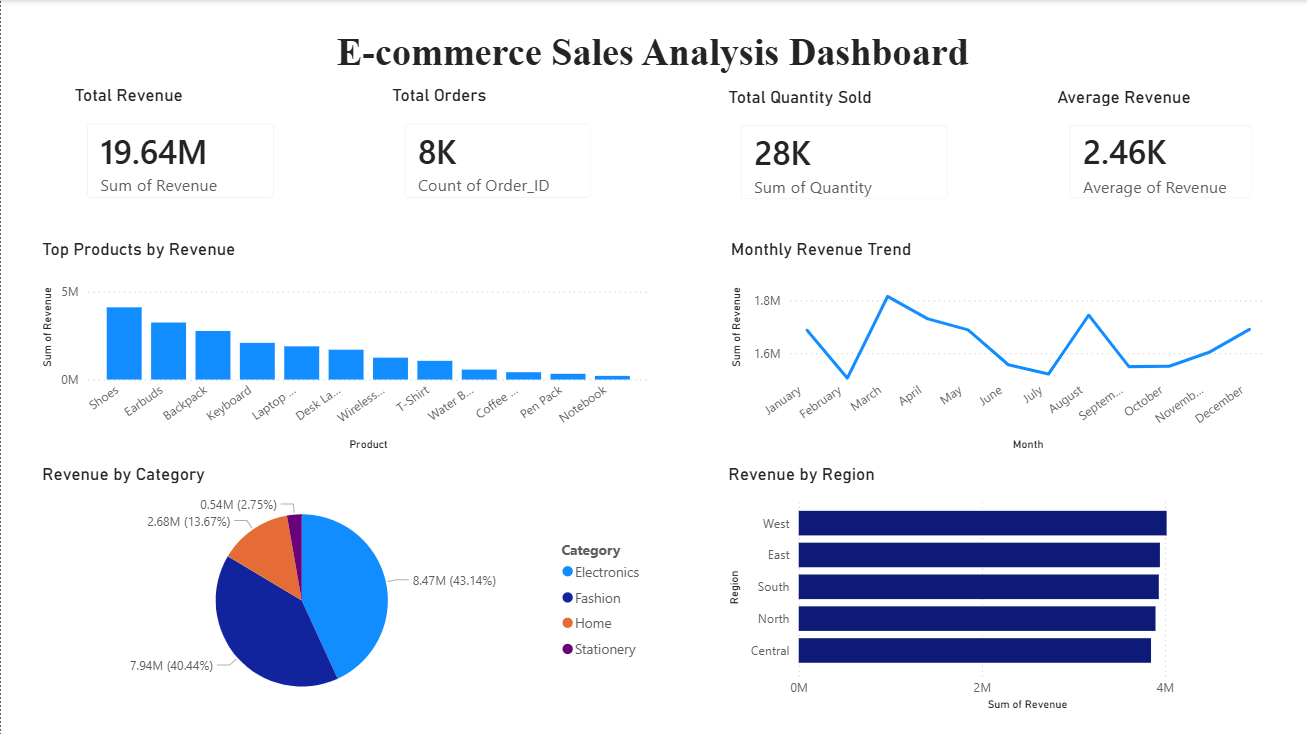

What the dashboard file says about the page in this screenshot:
{"tool":"powerbi","page":{"name":"Page 1","canvas":[1280,720],"ordinal":0},"visuals":[{"type":"columnChart","title":"Top Products by Revenue","fields":{"Category":["ecommerce_sales_dataset_8000.Product"],"Y":["Sum(ecommerce_sales_dataset_8000.Revenue)"]},"box":[35.5,233.6,602.9,212.8],"z":0},{"type":"lineChart","title":"Monthly Revenue Trend","fields":{"Category":["ecommerce_sales_dataset_8000.Order_Date.Variation.Date Hierarchy.Month"],"Y":["Sum(ecommerce_sales_dataset_8000.Revenue)"]},"box":[709.2,233.6,533.2,212.8],"z":1000},{"type":"pieChart","title":"Revenue by Category","fields":{"Category":["ecommerce_sales_dataset_8000.Category"],"Y":["Sum(ecommerce_sales_dataset_8000.Revenue)"]},"box":[35.5,453.7,602.9,247],"z":2000},{"type":"clusteredBarChart","title":"Revenue by Region","fields":{"Category":["ecommerce_sales_dataset_8000.Region"],"Y":["Sum(ecommerce_sales_dataset_8000.Revenue)"]},"box":[706.8,453.7,535.6,247],"z":3000},{"type":"textbox","box":[14.7,24.5,1246.1,69.7],"z":4000},{"type":"cardVisual","title":"Total Revenue","fields":{"Data":["Sum(ecommerce_sales_dataset_8000.Revenue)"]},"box":[67.3,83.2,217.7,128.4],"z":5000},{"type":"cardVisual","title":"Total Orders","fields":{"Data":["CountNonNull(ecommerce_sales_dataset_8000.Order_ID)"]},"box":[377.9,83.2,216.4,128.4],"z":6000},{"type":"cardVisual","title":"Total Quantity Sold","fields":{"Data":["Sum(ecommerce_sales_dataset_8000.Quantity)"]},"box":[706.8,84.4,237.2,128.4],"z":7000},{"type":"cardVisual","title":"Average Revenue","fields":{"Data":["Avg(ecommerce_sales_dataset_8000.Revenue)"]},"box":[1028.4,84.4,214,127.2],"z":8000}]}

Visuals, with their boxes in screenshot pixels (x1, y1, x2, y2), scaled from the page's 1280x720 canvas onto the 1307x734 screenshot:
"Top Products by Revenue" columnChart: bbox(36, 238, 652, 455)
"Monthly Revenue Trend" lineChart: bbox(724, 238, 1269, 455)
"Revenue by Category" pieChart: bbox(36, 463, 652, 714)
"Revenue by Region" clusteredBarChart: bbox(722, 463, 1269, 714)
textbox: bbox(15, 25, 1287, 96)
"Total Revenue" cardVisual: bbox(69, 85, 291, 216)
"Total Orders" cardVisual: bbox(386, 85, 607, 216)
"Total Quantity Sold" cardVisual: bbox(722, 86, 964, 217)
"Average Revenue" cardVisual: bbox(1050, 86, 1269, 216)
